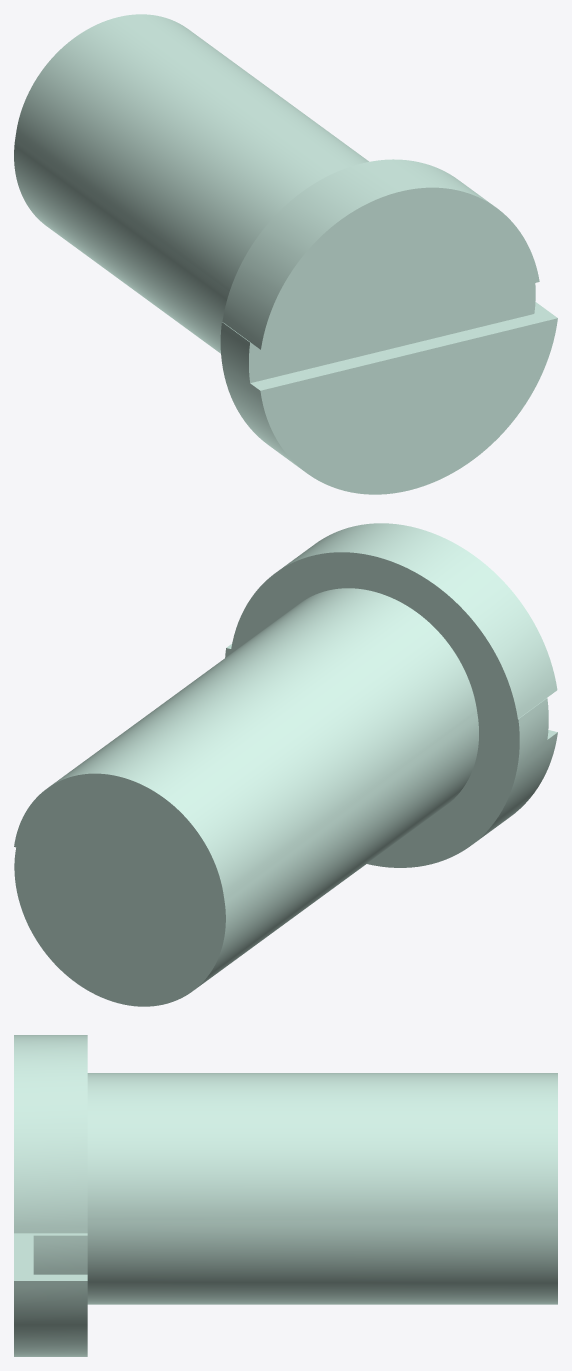
The picture shows the model from 3 angles, top to bottom: view 1: azimuth 30°, elevation 25°; view 2: azimuth 150°, elevation 25°; view 3: azimuth 270°, elevation 25°; orthographic projection. The views are drawn at different scales.
Visible parts, largest first — view 1: Renderer Node; view 2: Renderer Node; view 3: Renderer Node.
Part boxes in pixels (x1,y1,x2,y2): Renderer Node: (14, 14, 557, 494); Renderer Node: (14, 523, 557, 1006); Renderer Node: (14, 1035, 557, 1356).
Bounding box in the file's own units: 0.5258 × 0.5059 × 0.8672.
